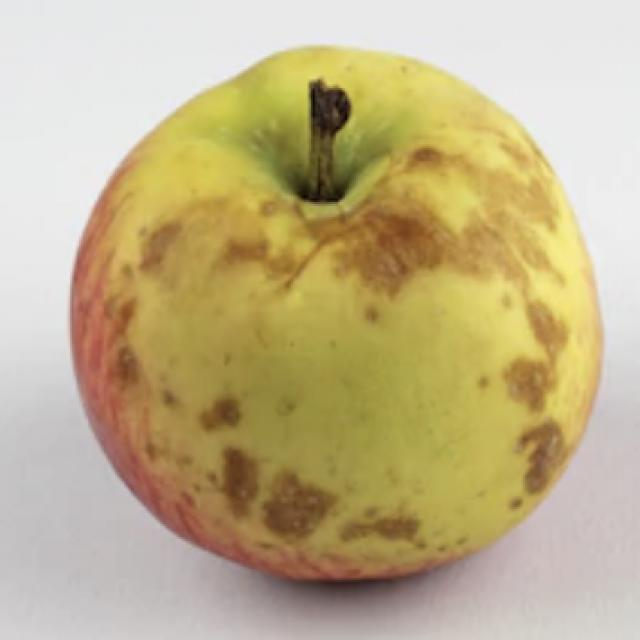Rotten: (95, 86, 608, 612)
